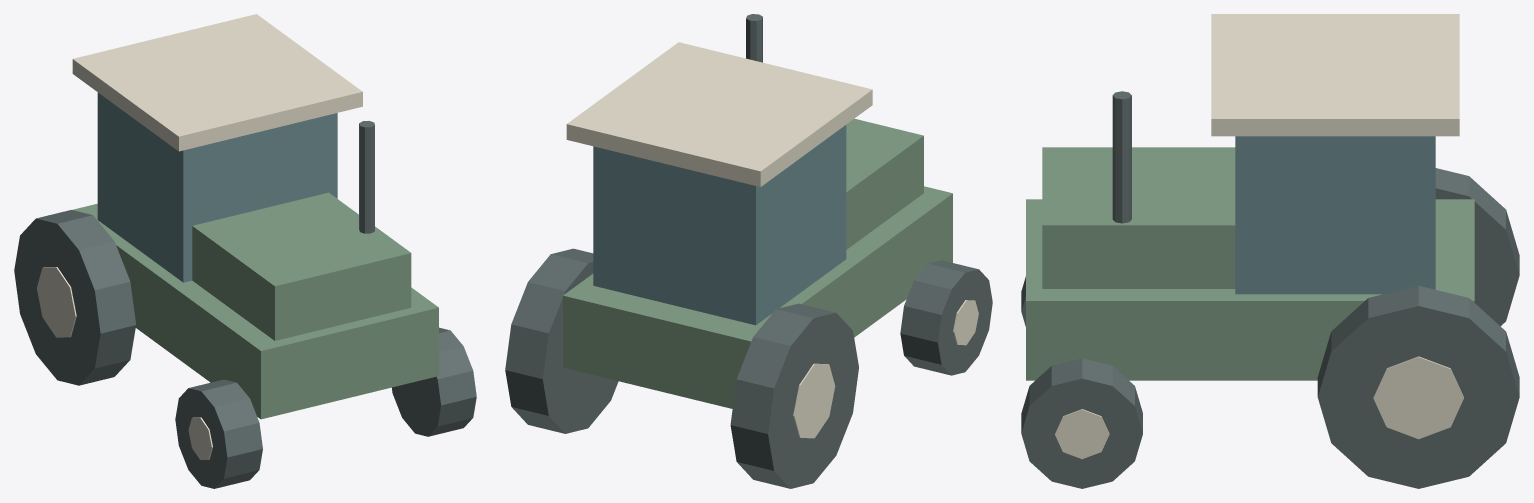
3 views of the same model, side by side, from view 1: azimuth 30°, elevation 25°; view 2: azimuth 150°, elevation 25°; view 3: azimuth 270°, elevation 25° (orthographic). The views are drawn at different scales.
Bounding box in the file's own units: 2.12 × 2.45 × 3.11.
